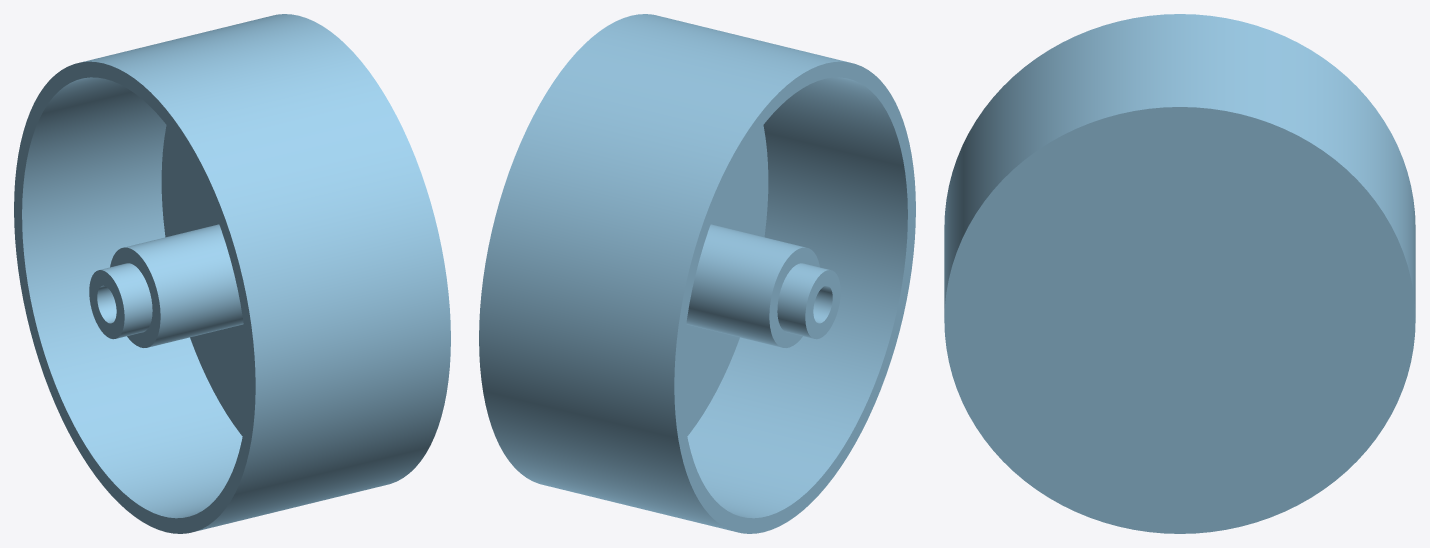
File: wheel.dae
The picture shows the model from 3 angles, left to right: view 1: azimuth 30°, elevation 25°; view 2: azimuth 150°, elevation 25°; view 3: azimuth 270°, elevation 25°; orthographic projection. The views are drawn at different scales.
Parts seen in each view (by area): view 1: ID2; view 2: ID2; view 3: ID2.
Part boxes in pixels (box(x1,y1,x2,y2)): ID2: box(14, 14, 450, 533); ID2: box(479, 14, 915, 533); ID2: box(944, 14, 1415, 533).
Size of the model in its own units: 0.08 by 0.15 by 0.15.
